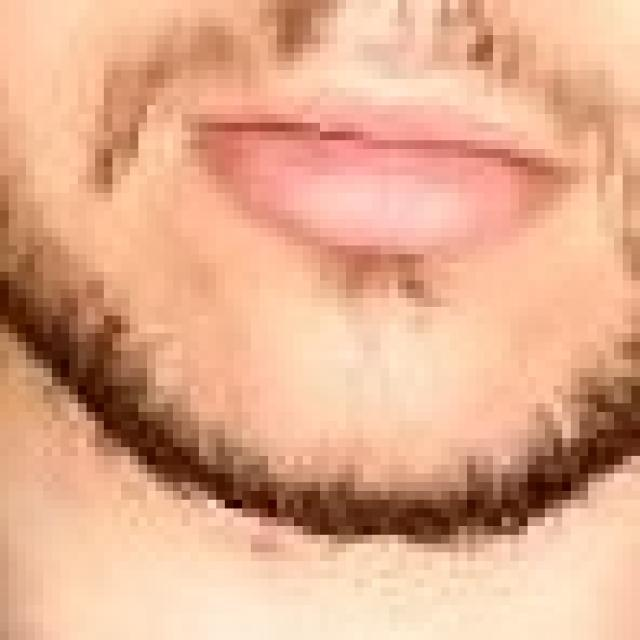closed-mouth: (173, 88, 588, 254)
